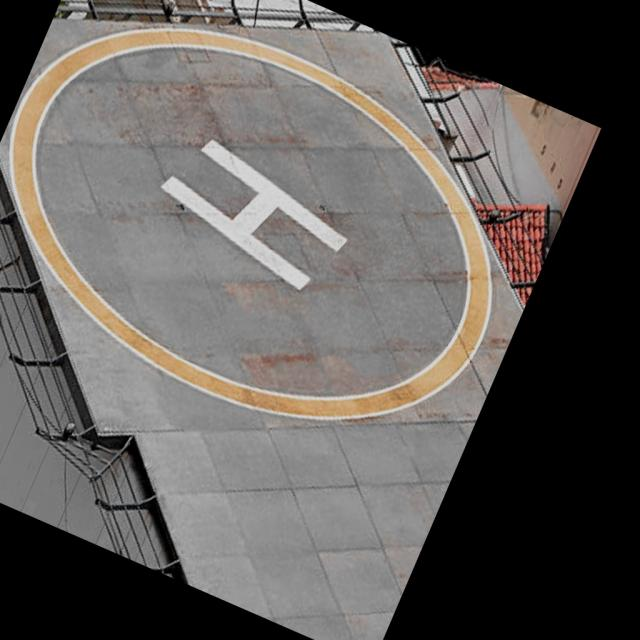helipad: (6, 22, 496, 424)
